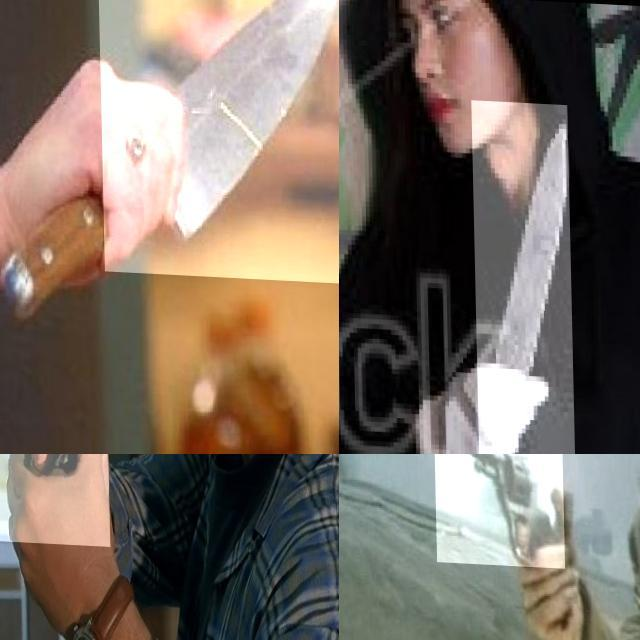-: (96, 0, 339, 279), (470, 97, 573, 454)
gun-knife-thesis - v11 Yolov5 augmented: (433, 454, 564, 565), (0, 454, 107, 568)
